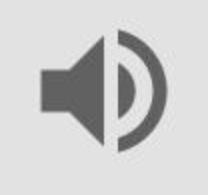ImgButton: (1, 1, 207, 194)
